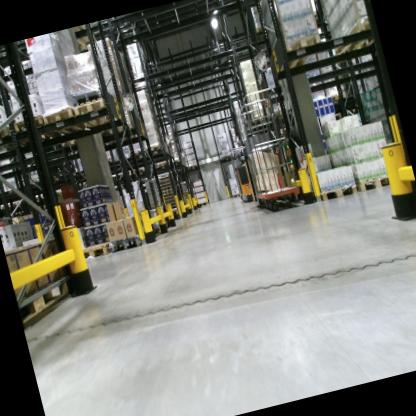pallet: (15, 273, 82, 326), (310, 169, 400, 204), (272, 28, 328, 77), (10, 105, 69, 150), (41, 101, 96, 142), (326, 17, 379, 56), (71, 94, 121, 134), (0, 118, 35, 157), (77, 237, 119, 263), (250, 22, 282, 54), (105, 231, 145, 256), (64, 24, 99, 52), (122, 147, 151, 166), (151, 219, 174, 237), (330, 108, 354, 125), (328, 92, 350, 110), (147, 141, 165, 158), (169, 156, 185, 172), (219, 152, 237, 165), (132, 165, 149, 177), (157, 160, 172, 171), (231, 188, 243, 200), (188, 161, 199, 172), (168, 207, 183, 215)
pallet_truck: (224, 146, 260, 205)
